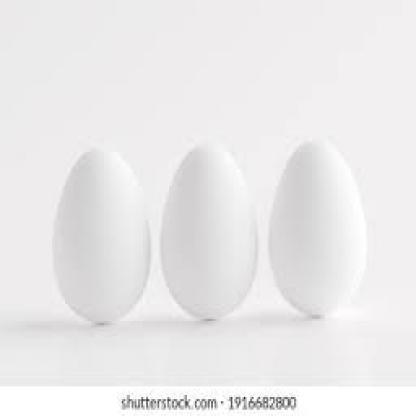egg: (48, 141, 154, 328), (158, 136, 261, 325), (268, 132, 368, 318)
